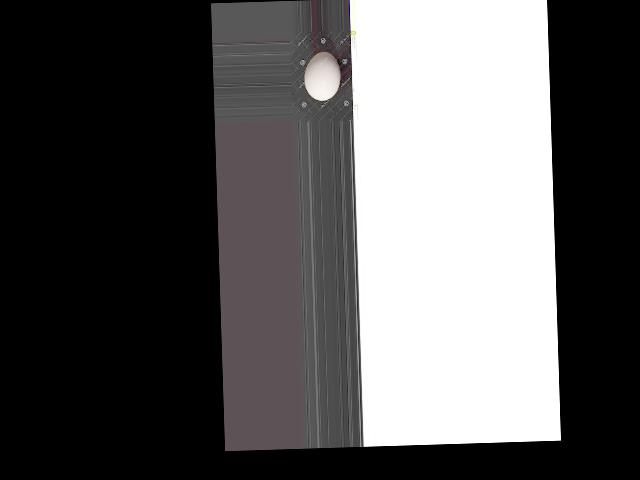egg: (303, 51, 341, 101)
